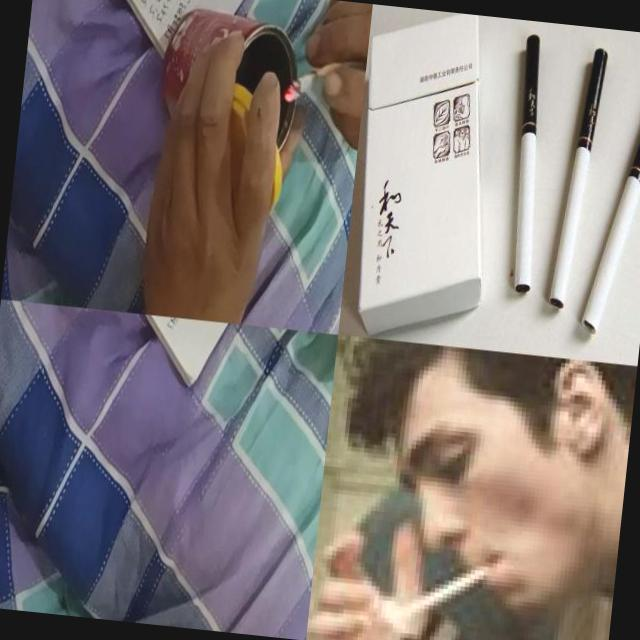cigarette: (548, 45, 608, 311), (580, 74, 640, 340), (500, 34, 558, 295), (384, 544, 511, 634), (282, 57, 347, 109)
